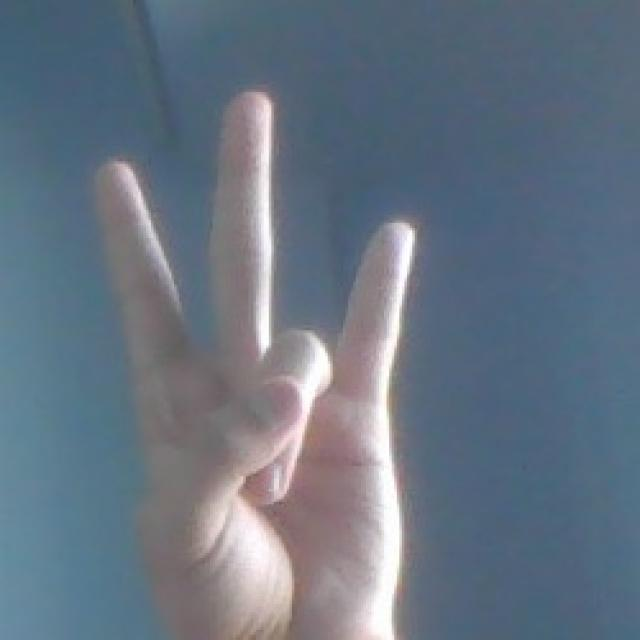Numeric-7: (66, 80, 424, 640)
